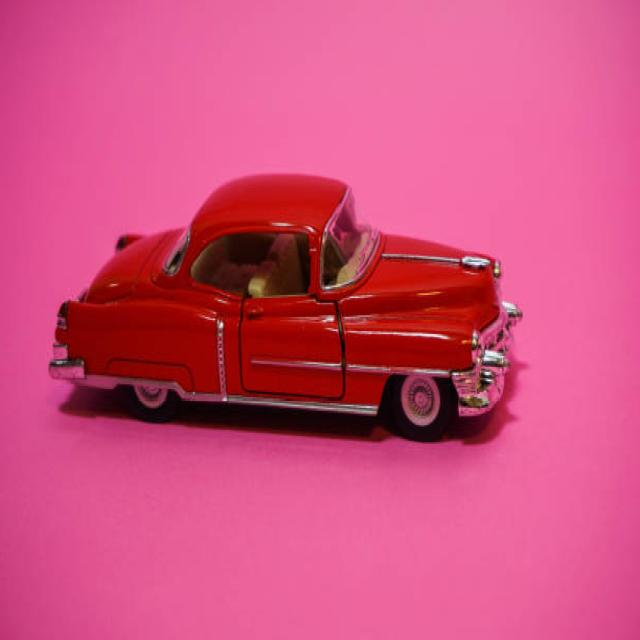Car: (48, 170, 523, 442)
